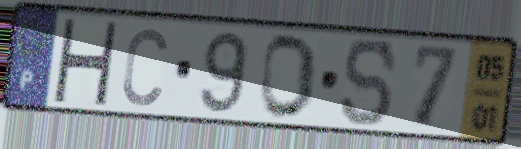7: (411, 43, 459, 132)
9: (196, 28, 252, 116)
C: (119, 24, 171, 109)
H: (49, 15, 121, 109)
O: (257, 32, 320, 122)
S: (339, 36, 400, 129)
